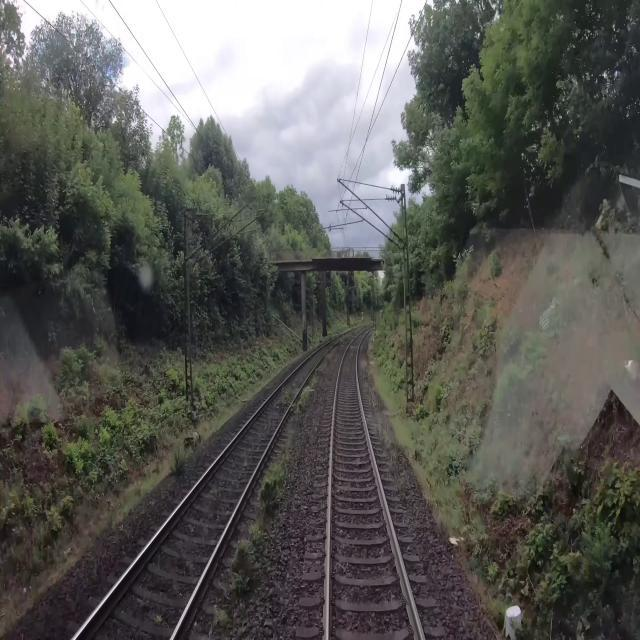Plant: (231, 458, 288, 594), (292, 384, 313, 421), (211, 604, 230, 633)
